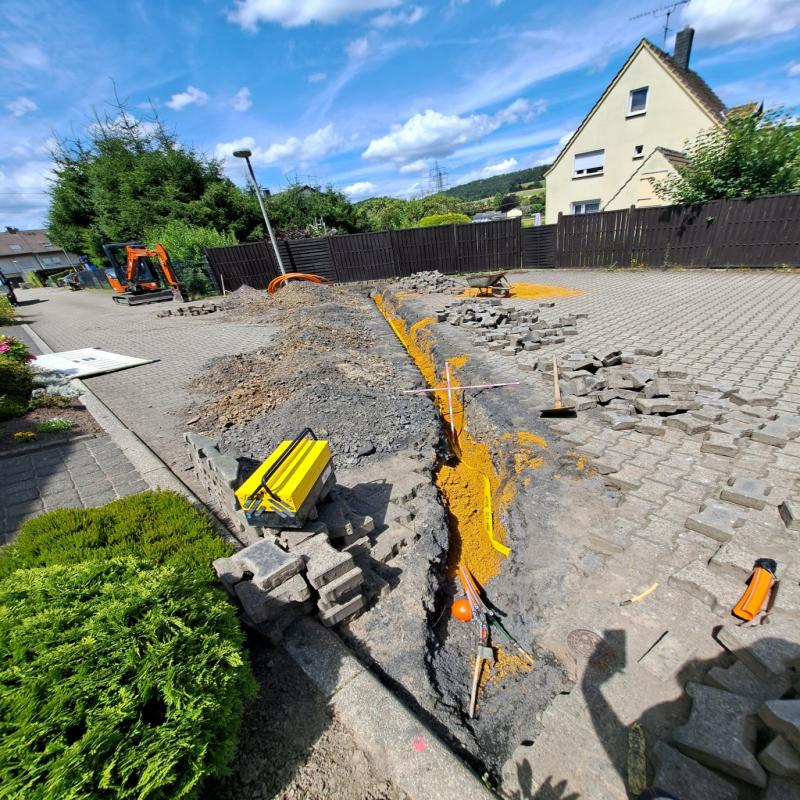Kugelmarker: (453, 599, 471, 621)
Orang-Speednetrohrchen: (459, 567, 494, 629)
